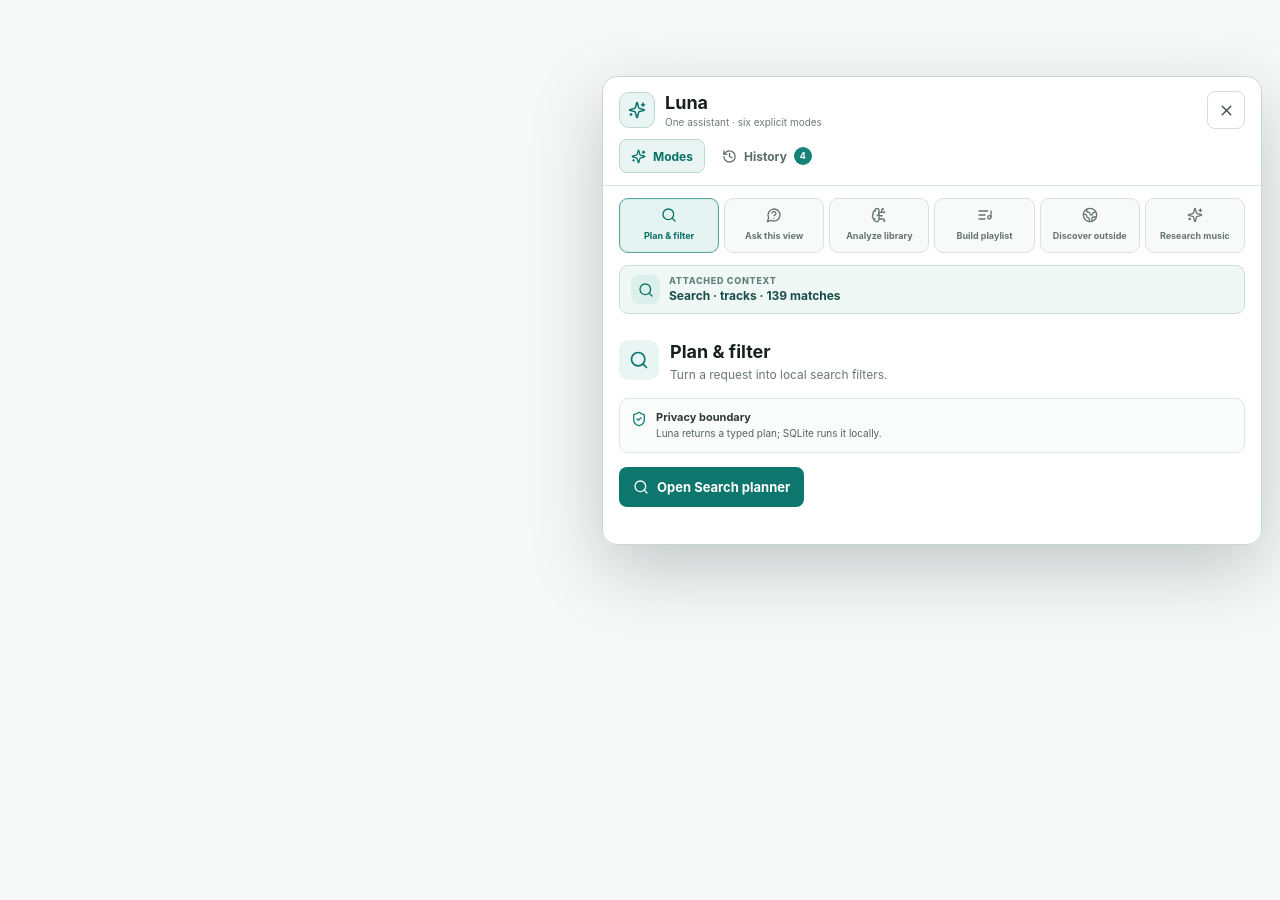
Scenario: LunaPanel › combines AI snapshots, playlists, and discoveries in one timeline
This screenshot has width=1280, height=900.
Click the tab "History 4": click(767, 156) [710,139,824,173]
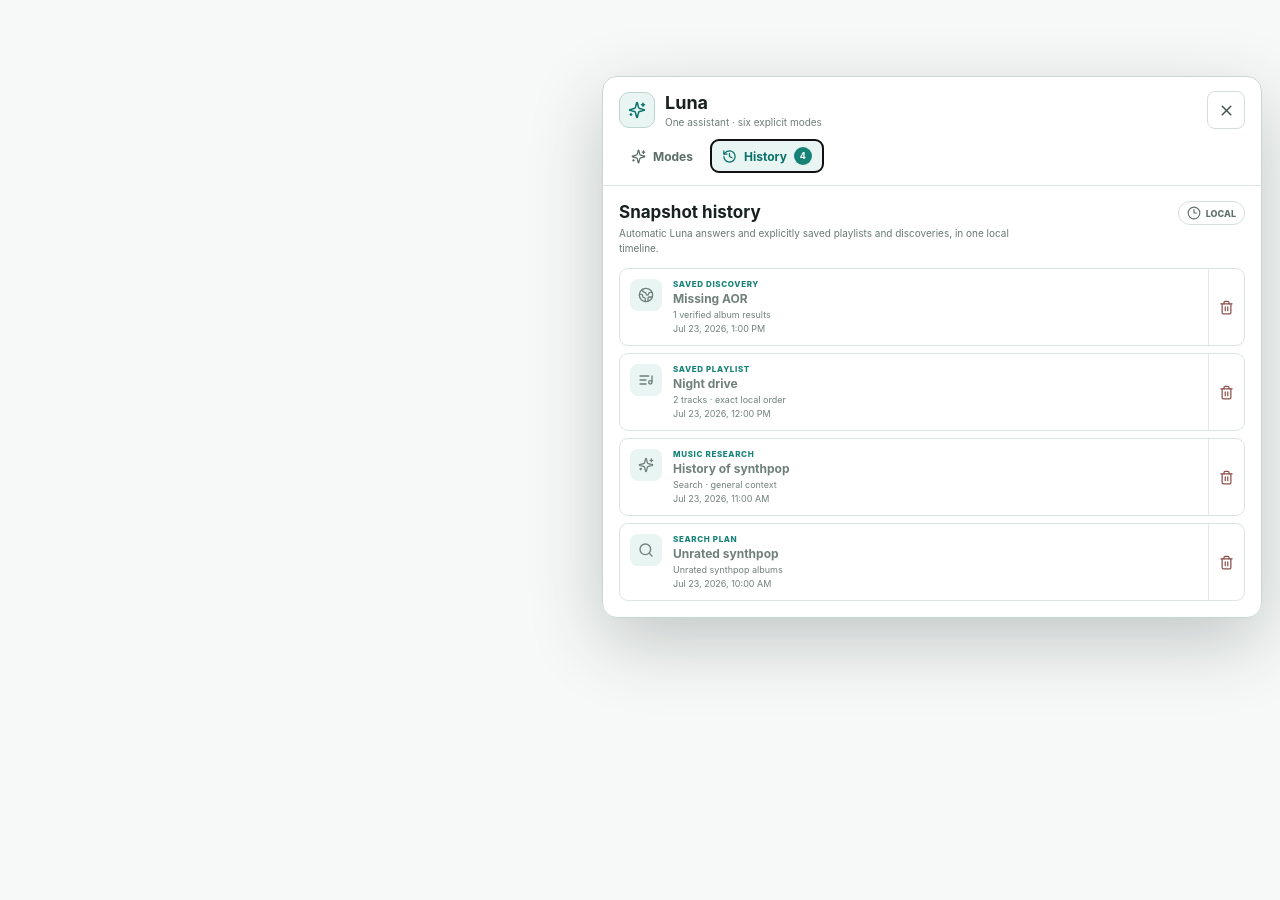
Now the text "Unrated synthpop" is shown, box [673,546,779,561]
Now the text "Night drive" is shown
Now the text "Missing AOR" is shown, box [673,291,748,306]
Click the text "Night drive": click(705, 384) [673,376,738,391]
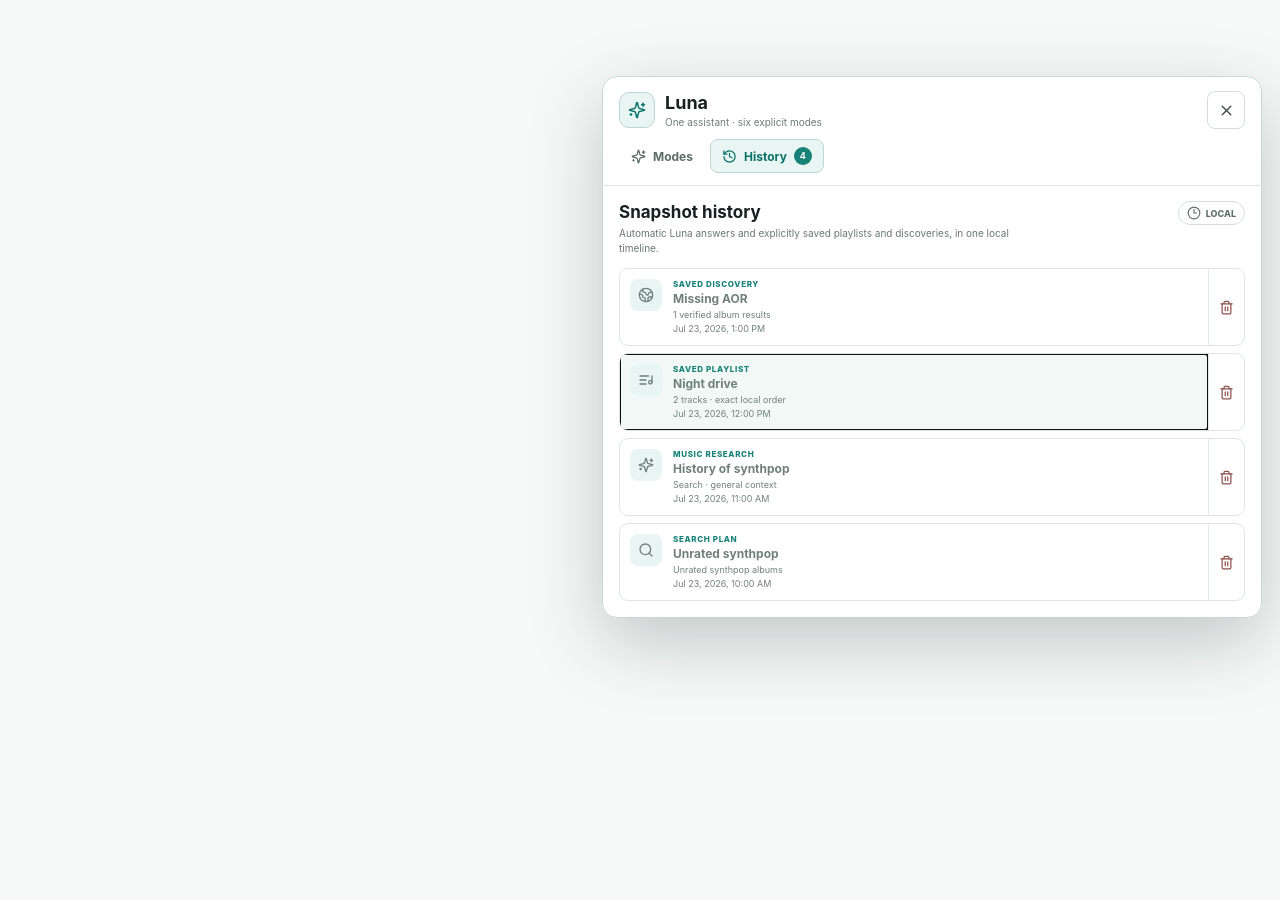
Click the text "History of synthpop": click(731, 468) [673,461,790,476]
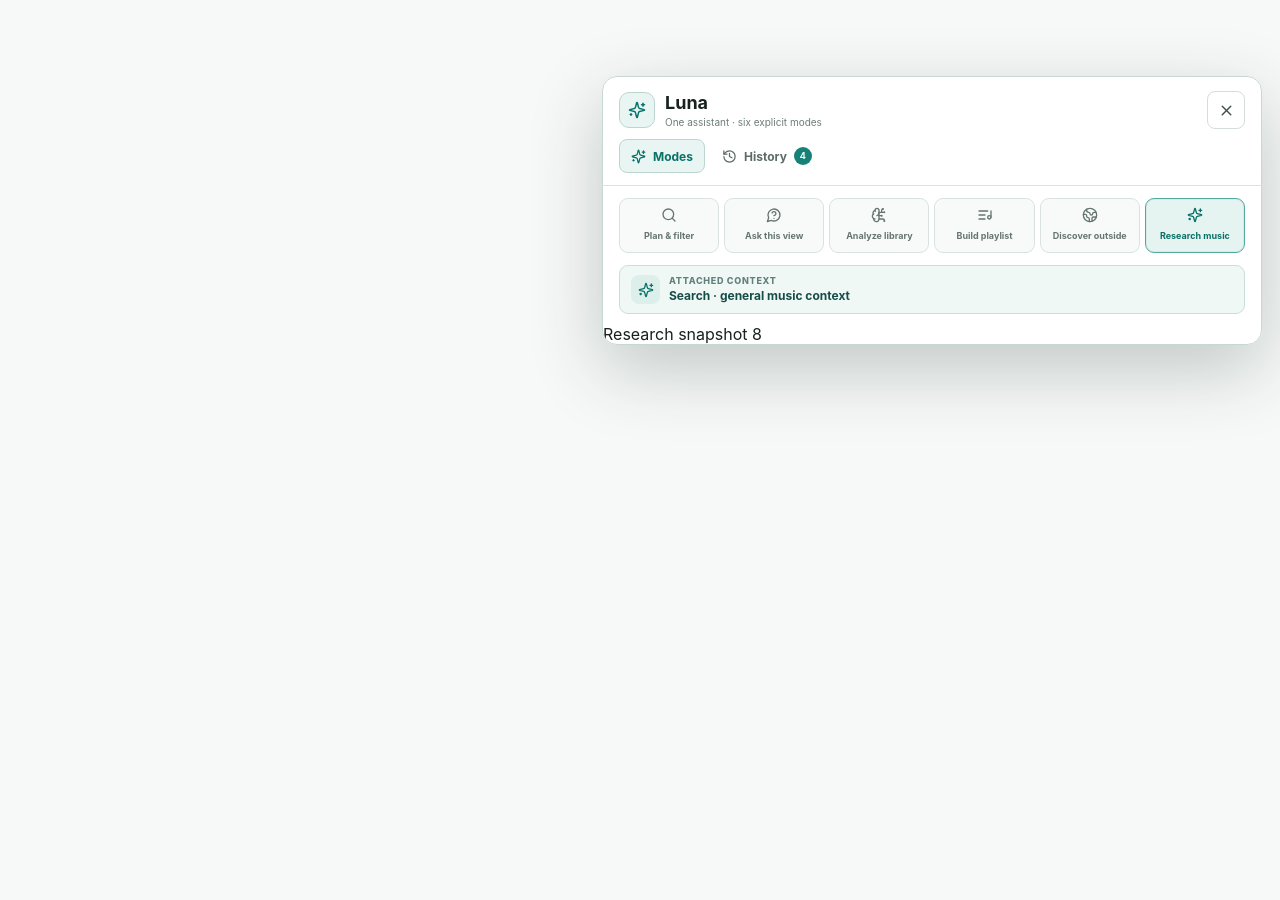
Now the text "Research snapshot 8" is shown, box [603,324,762,344]
